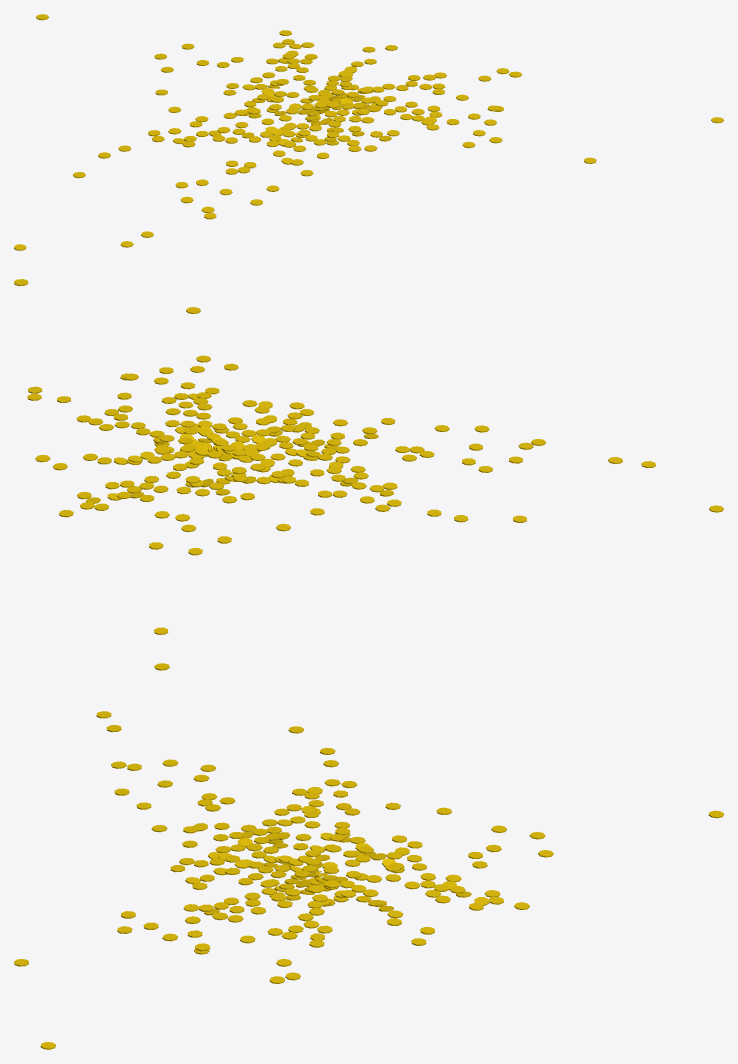
File: CoinHeap2.fbx
3 renders of one model, top to bottom at view 1: azimuth 30°, elevation 25°; view 2: azimuth 150°, elevation 25°; view 3: azimuth 270°, elevation 25°, orthographic. The views are drawn at different scales.
Visible parts, largest first — view 1: CoinHeap2; view 2: CoinHeap2; view 3: CoinHeap2.
Part boxes in pixels (left/top/right/bottom): CoinHeap2: left=14, top=14, right=723, bottom=250; CoinHeap2: left=14, top=279, right=723, bottom=634; CoinHeap2: left=14, top=663, right=723, bottom=1049.
Bounding box in the file's own units: 629 × 9.81 × 485.
